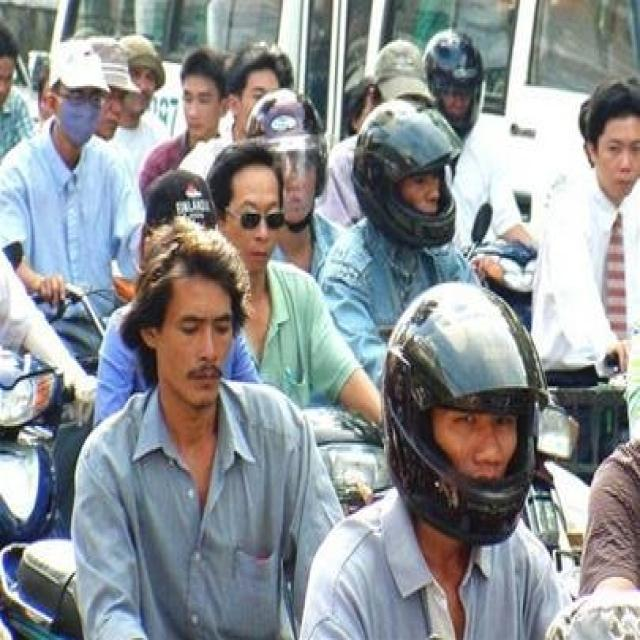Face and Hair: (109, 203, 261, 420)
Full-face-helmet: (382, 281, 549, 547)
